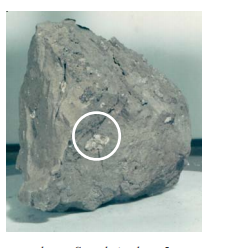Breccia: (10, 14, 192, 222)
